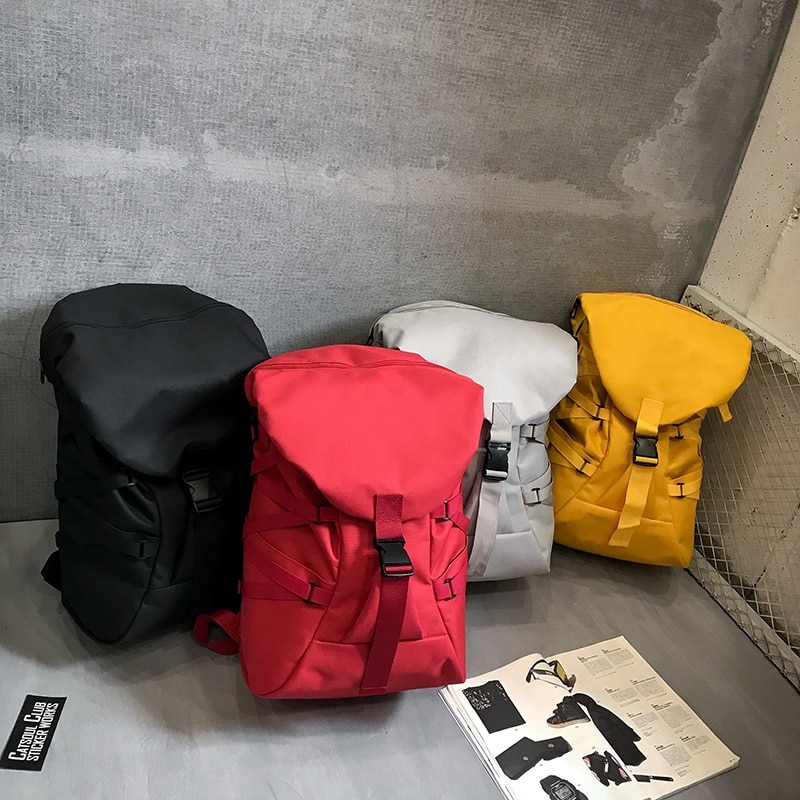Men's Backpacks: (239, 344, 486, 698), (38, 284, 273, 655), (370, 299, 576, 587), (549, 291, 755, 569)
